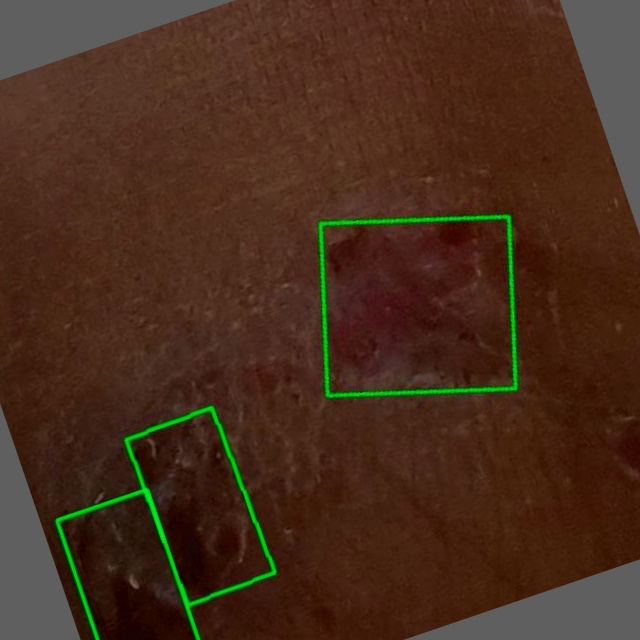Contact Dermatitis: (319, 216, 515, 395), (125, 407, 273, 604), (57, 489, 198, 639)
